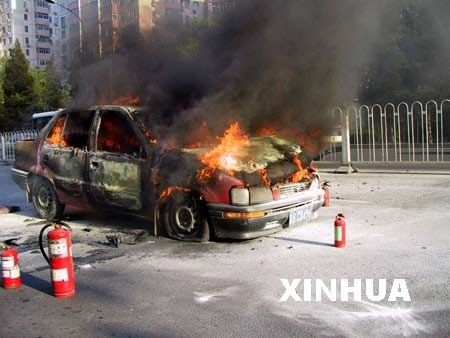fire: (153, 119, 315, 197), (47, 119, 69, 146)
